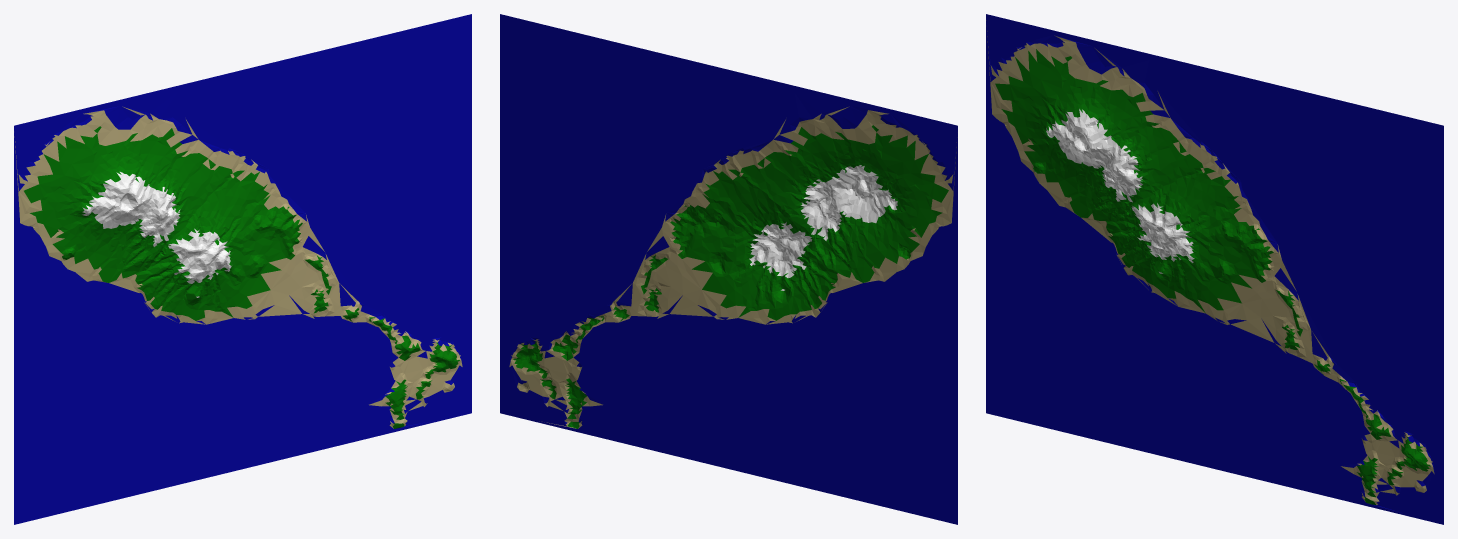
File: FinalIsland.obj
The picture shows the model from 3 angles, left to right: view 1: azimuth 30°, elevation 25°; view 2: azimuth 150°, elevation 25°; view 3: azimuth 330°, elevation 25°; orthographic projection.
Size of the model in its own units: 27000 by 22500 by 1047.
